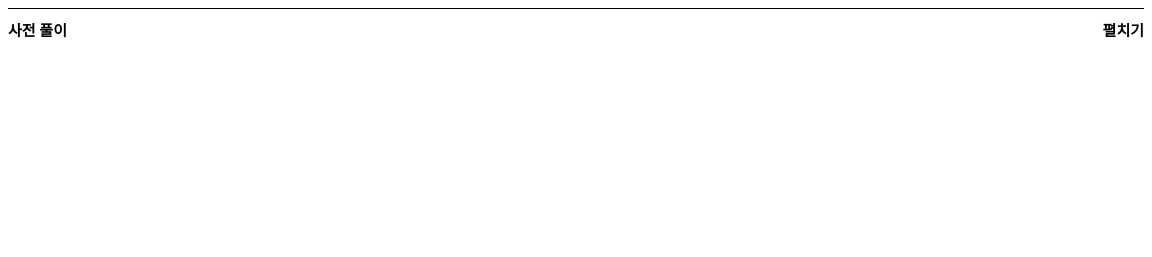
DictTabs › puts the dictionary links and the source under the panel, following the chosen language
Later steps or results of the test are not shown.
Click the button "사전 풀이 펼치기" at (37, 31), box [8,9,1144,53]
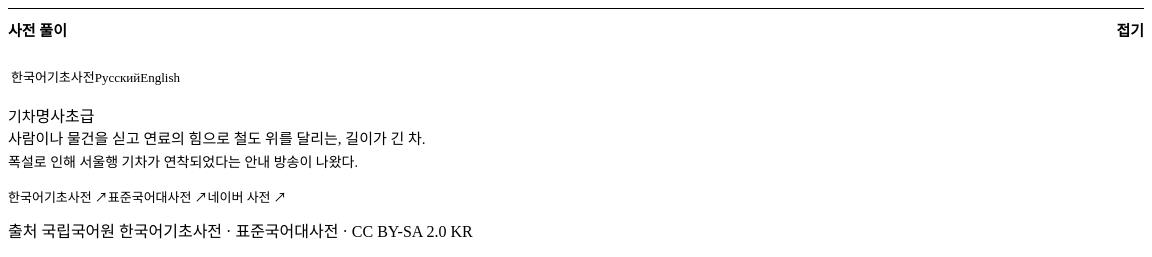
Check: the button "사전 풀이 접기" is expanded, box [8,9,1144,53]
Check: the element showing "한국어기초사전 ↗ 표준국어대사전 ↗ 네이버 사전 ↗" is shown, box [8,190,287,205]
Check: the text "출처 국립국어원 한국어기초사전 · 표준국어대사전 · CC BY-SA 2.0 KR" is shown, box [8,223,473,240]
Click the tab "Русский" at (117, 78), box [95,56,140,100]
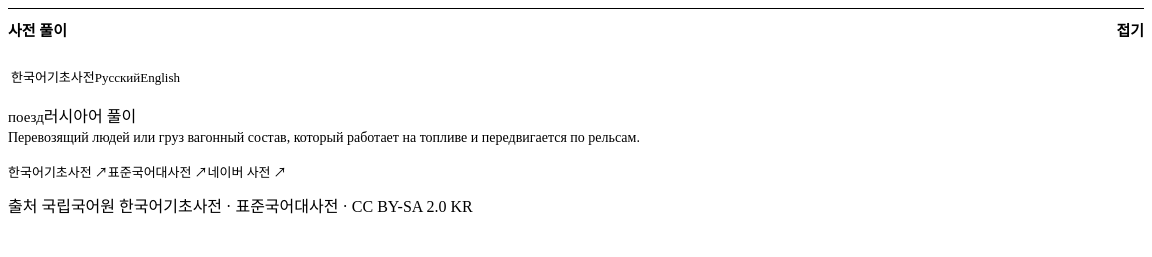
Check: the link with aria-label "한국어기초사전 러시아어 화면 새 창으로 열기" has attribute href="https://krdict.korean.go.kr/rus/dicSearch/SearchView?ParaWordNo=60632&nation=rus&nationCode=5", box [8,165,108,180]
